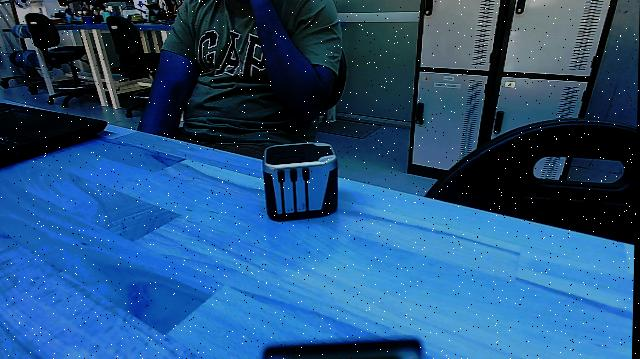adapter: (256, 141, 340, 225)
